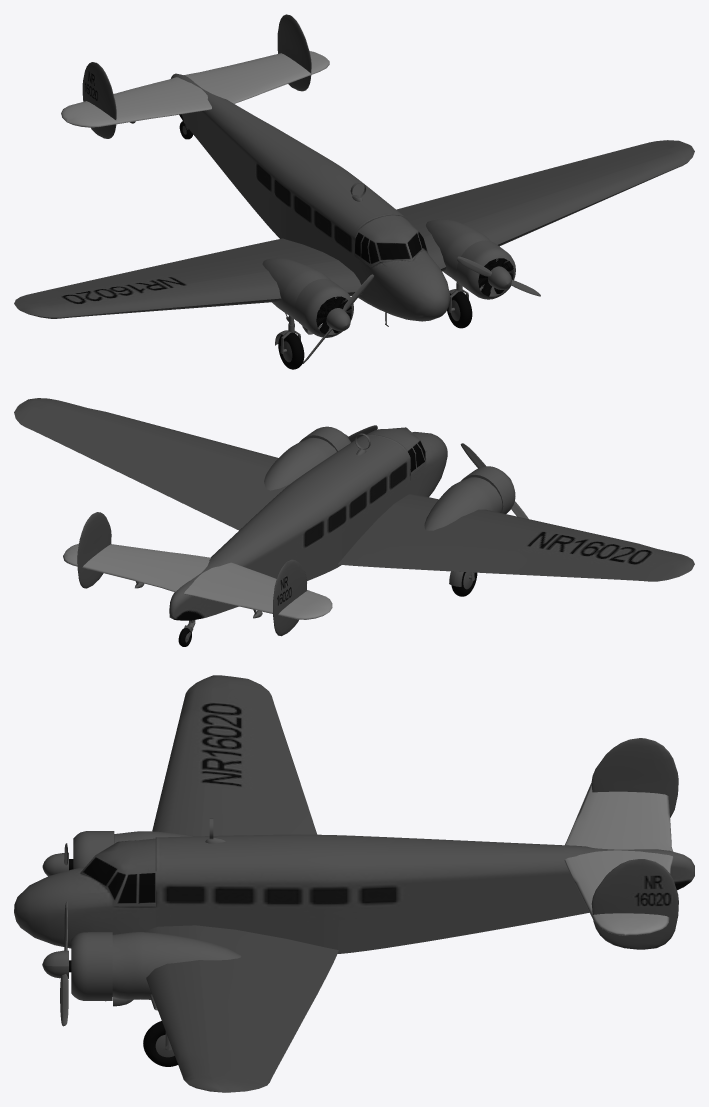
File: lockheed10.glb
3 renders of one model, top to bottom at view 1: azimuth 30°, elevation 25°; view 2: azimuth 150°, elevation 25°; view 3: azimuth 270°, elevation 25°, orthographic. The views are drawn at different scales.
Visible parts, largest first — view 1: fus-FACES.001, wing-2, wing-1, tail-FACES.001, canopy-FACES.001, nacc1-FACES.001, nacc-FACES.001, cowl1-FACES.001, cowl-FACES.001, fin_11-FACES.001, fin_1-FACES.001, tyre1-FACES.001 (+1 smaller); view 2: fus-FACES.001, wing-2, wing-1, tail-FACES.001, nacc1-FACES.001, nacc-FACES.001, fin_11-FACES.001, fin_1-FACES.001, canopy-FACES.001, cowl1-FACES.001, cowl-FACES.001; view 3: fus-FACES.001, wing-1, wing-2, tail-FACES.001, fin_1-FACES.001, nacc-FACES.001, fin_11-FACES.001, canopy-FACES.001, cowl-FACES.001, cowl1-FACES.001, tyre-FACES.001.
Part boxes in pixels (x1,y1,x2,y2): fus-FACES.001: (171, 73, 450, 321); wing-2: (14, 238, 363, 318); wing-1: (396, 140, 694, 271); tail-FACES.001: (61, 51, 329, 127); canopy-FACES.001: (354, 215, 428, 267); nacc1-FACES.001: (262, 257, 337, 321); nacc-FACES.001: (426, 219, 498, 285); cowl1-FACES.001: (294, 279, 353, 337); cowl-FACES.001: (456, 240, 515, 299); fin_11-FACES.001: (82, 62, 116, 138); fin_1-FACES.001: (277, 14, 311, 91); tyre1-FACES.001: (278, 332, 304, 369); fus-FACES.001: (169, 432, 447, 620); wing-2: (337, 494, 694, 581); wing-1: (14, 398, 289, 530); tail-FACES.001: (63, 543, 332, 619); nacc1-FACES.001: (424, 477, 502, 530); nacc-FACES.001: (264, 438, 336, 490); fin_11-FACES.001: (273, 559, 306, 636); fin_1-FACES.001: (77, 512, 111, 588); canopy-FACES.001: (367, 427, 426, 475); cowl1-FACES.001: (461, 466, 515, 513); cowl-FACES.001: (299, 426, 350, 451); fus-FACES.001: (14, 834, 694, 953); wing-1: (143, 925, 338, 1092); wing-2: (152, 675, 317, 836); tail-FACES.001: (564, 783, 673, 935); fin_1-FACES.001: (591, 859, 678, 949); nacc-FACES.001: (112, 932, 241, 999); fin_11-FACES.001: (591, 738, 678, 817); canopy-FACES.001: (80, 838, 155, 906); cowl-FACES.001: (71, 932, 112, 1001); cowl1-FACES.001: (73, 831, 114, 869); tyre-FACES.001: (143, 1021, 177, 1066).
Bounding box in the file's own units: 16.76 × 4.09 × 11.54.
Materials: 11 (7 with a texture image).
